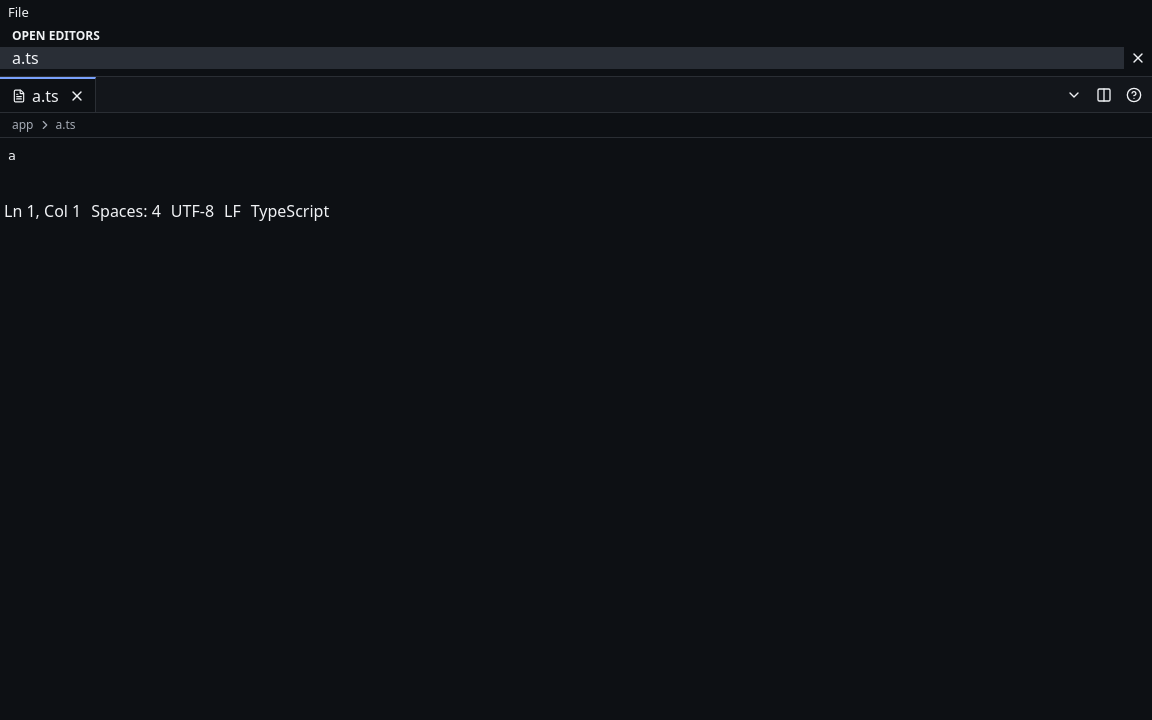
it: editor tabs — plan 07, B-32 › marks a dirty tab with a dot instead of the close, and asks before closing it (S-210)
Replace the text in the text box named "Editor of a.ts" with "mine" at [576, 168], box top-left (0, 138), bottom-right (1151, 199)
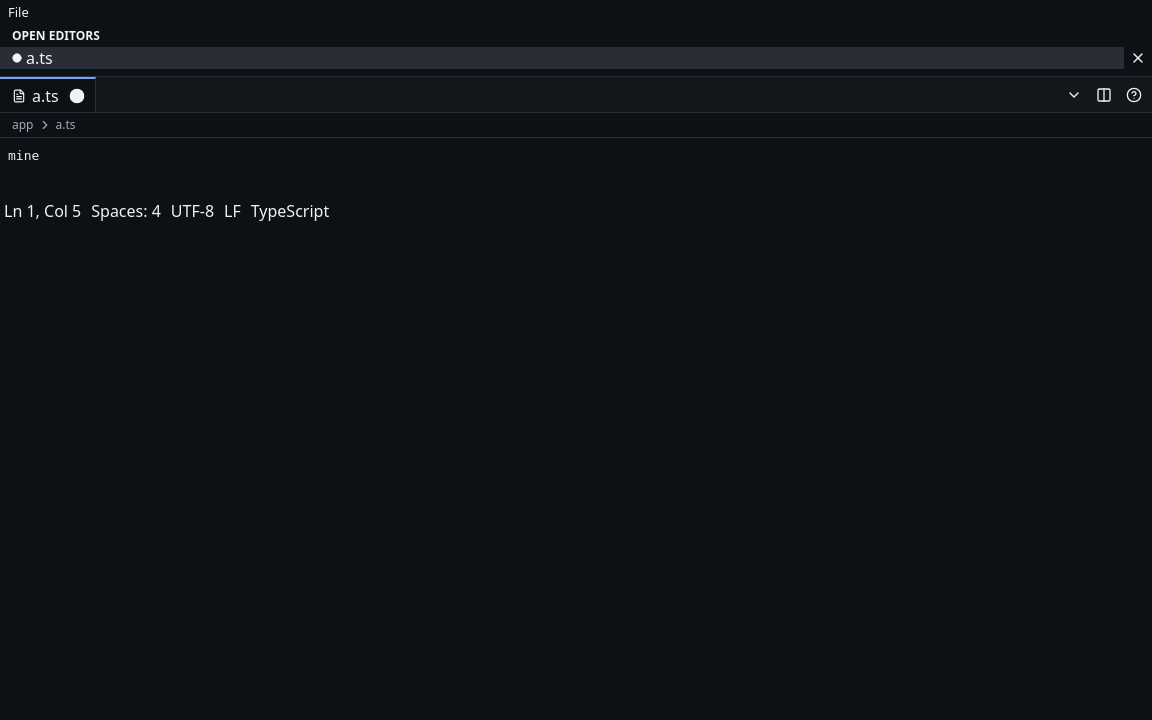
Click the 2nd button named "Close a.ts — it has unsaved changes" at [77, 96], box top-left (63, 82), bottom-right (91, 110)
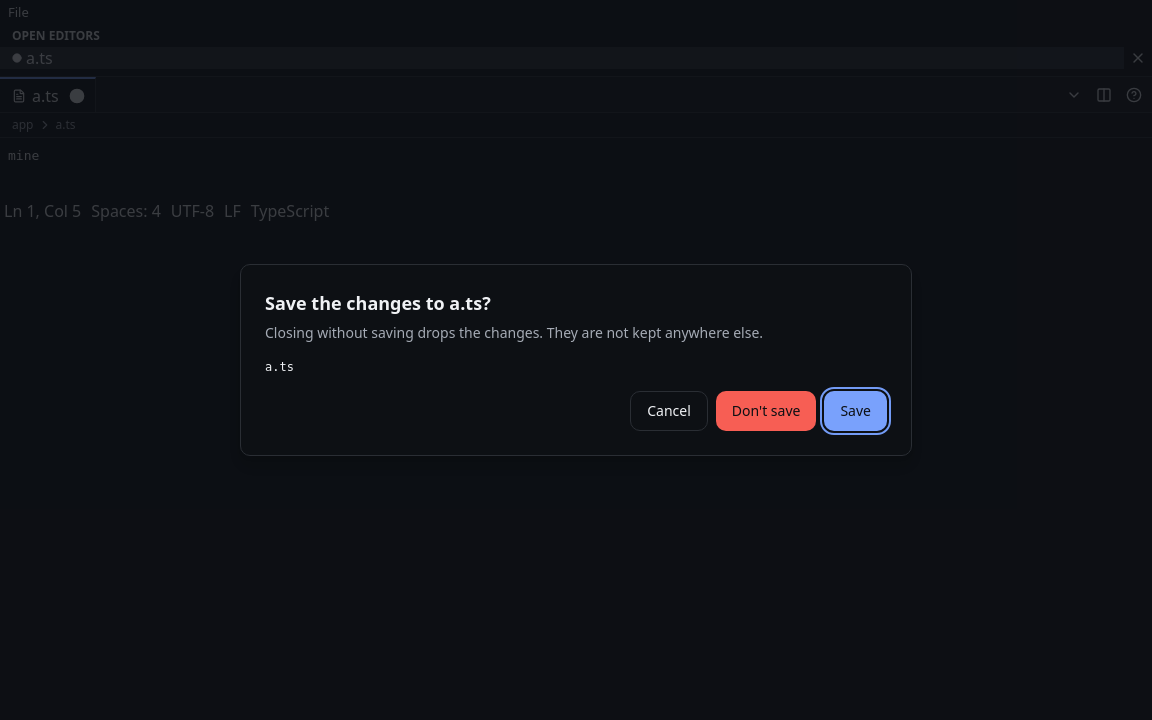
Click the button "Cancel" at [669, 411], box top-left (630, 391), bottom-right (708, 431)
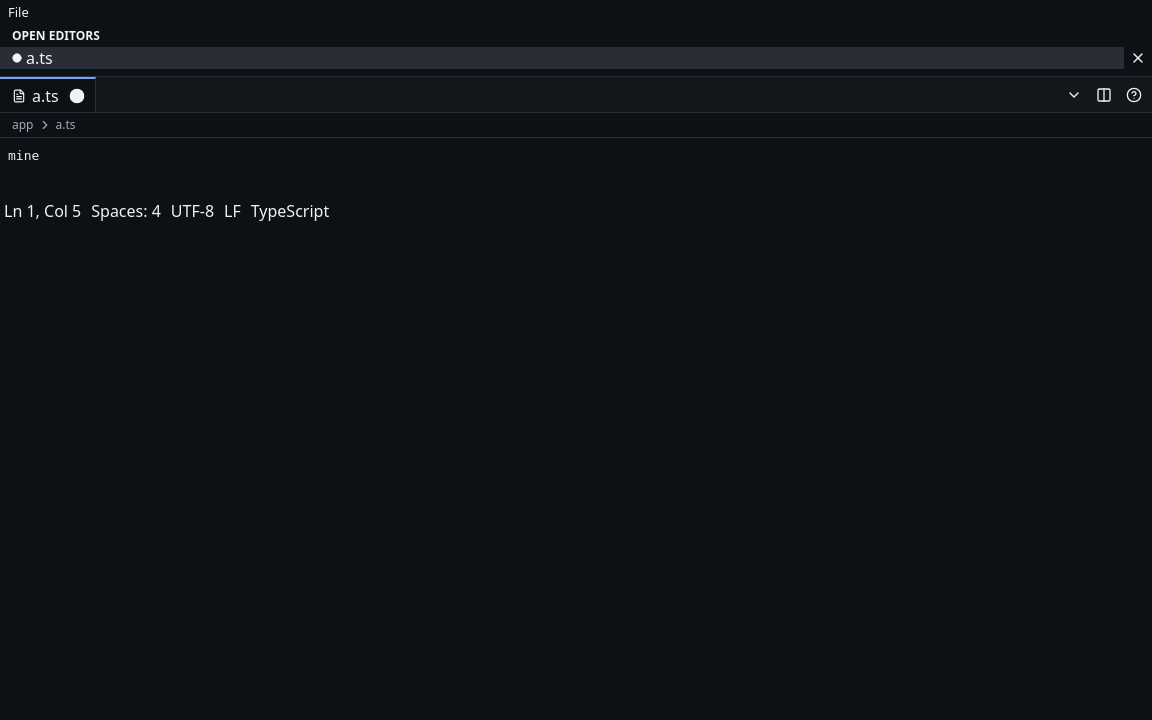
Click the 2nd button named "Close a.ts — it has unsaved changes" at [77, 96], box top-left (63, 82), bottom-right (91, 110)
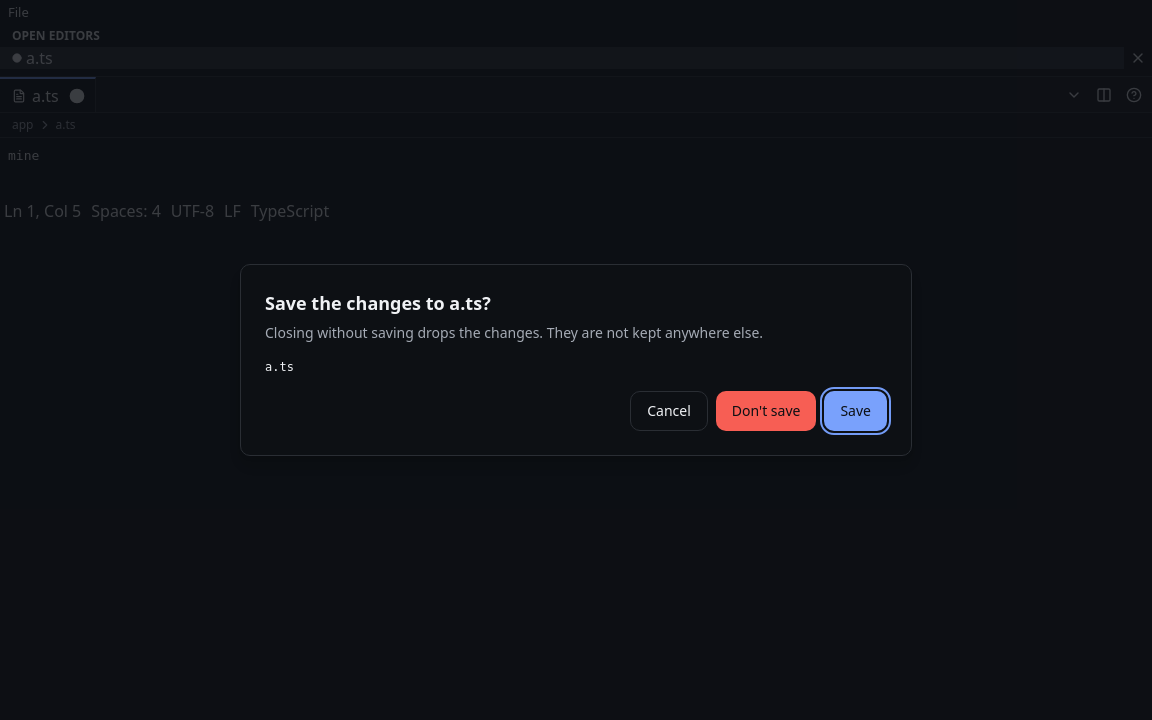
Click the button "Don't save" at [766, 411], box top-left (716, 391), bottom-right (816, 431)
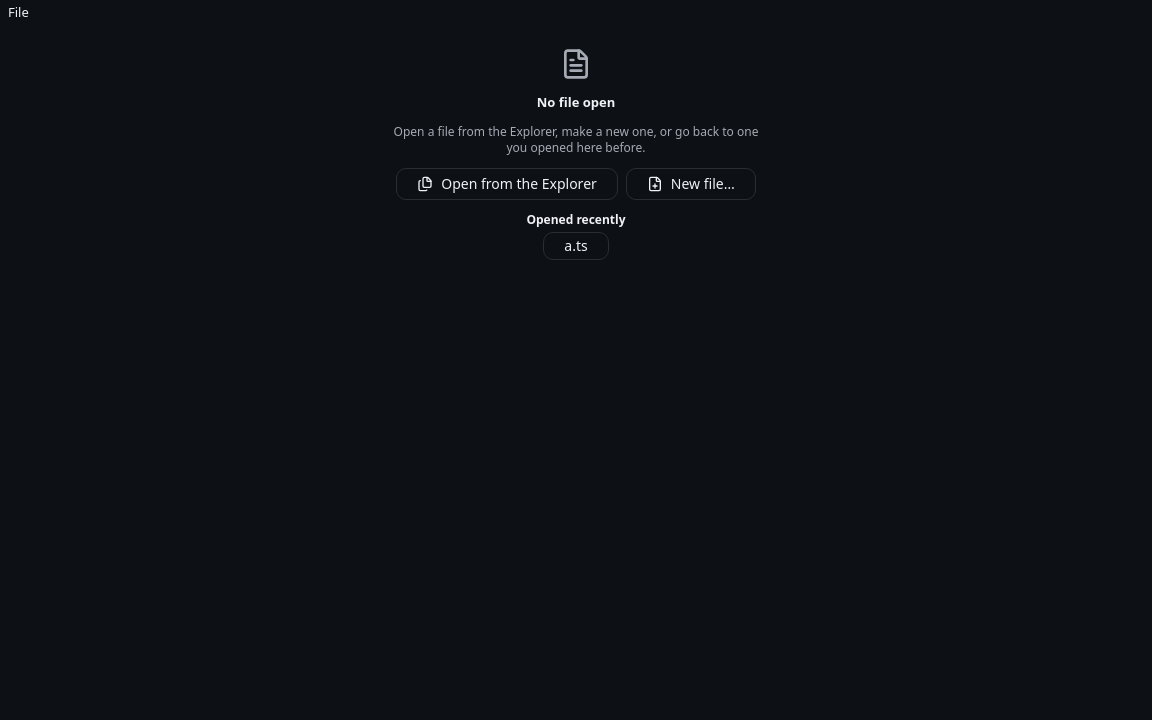
Expected: the text "No file open" is shown, top-left (537, 92), bottom-right (615, 112)
